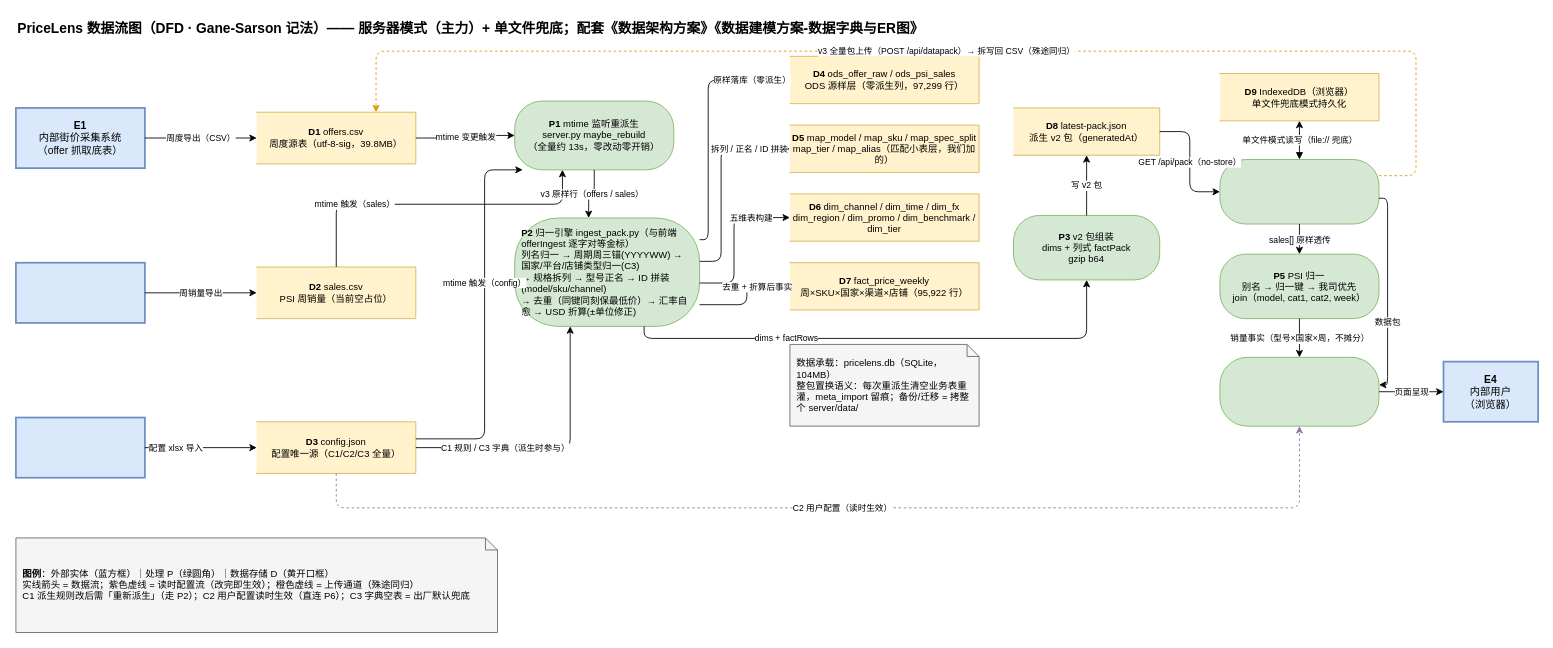
Some shapes in this 1553 by 648 pixel diagram are drawn without their labels. Each missing label, with the centre of its shape:
"E2 内部 PSI 销量系统 （周销量底表）" belongs at point 80,292.
"E3 业务侧（Eason） 配置维护 / 裁定" belongs at point 80,447.
"P4 前端 bootstrap 探测 /api/ping → fetch /api/pack applyDataPack（15s 轮询自刷新）" belongs at point 1299,191.
"P6 呈现层 价格走势 / 量价销毛 / 大盘 预测工作台 / 预警 / Agent" belongs at point 1299,391.
